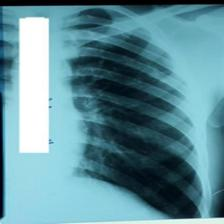tuberculosis: (0, 6, 204, 218)
